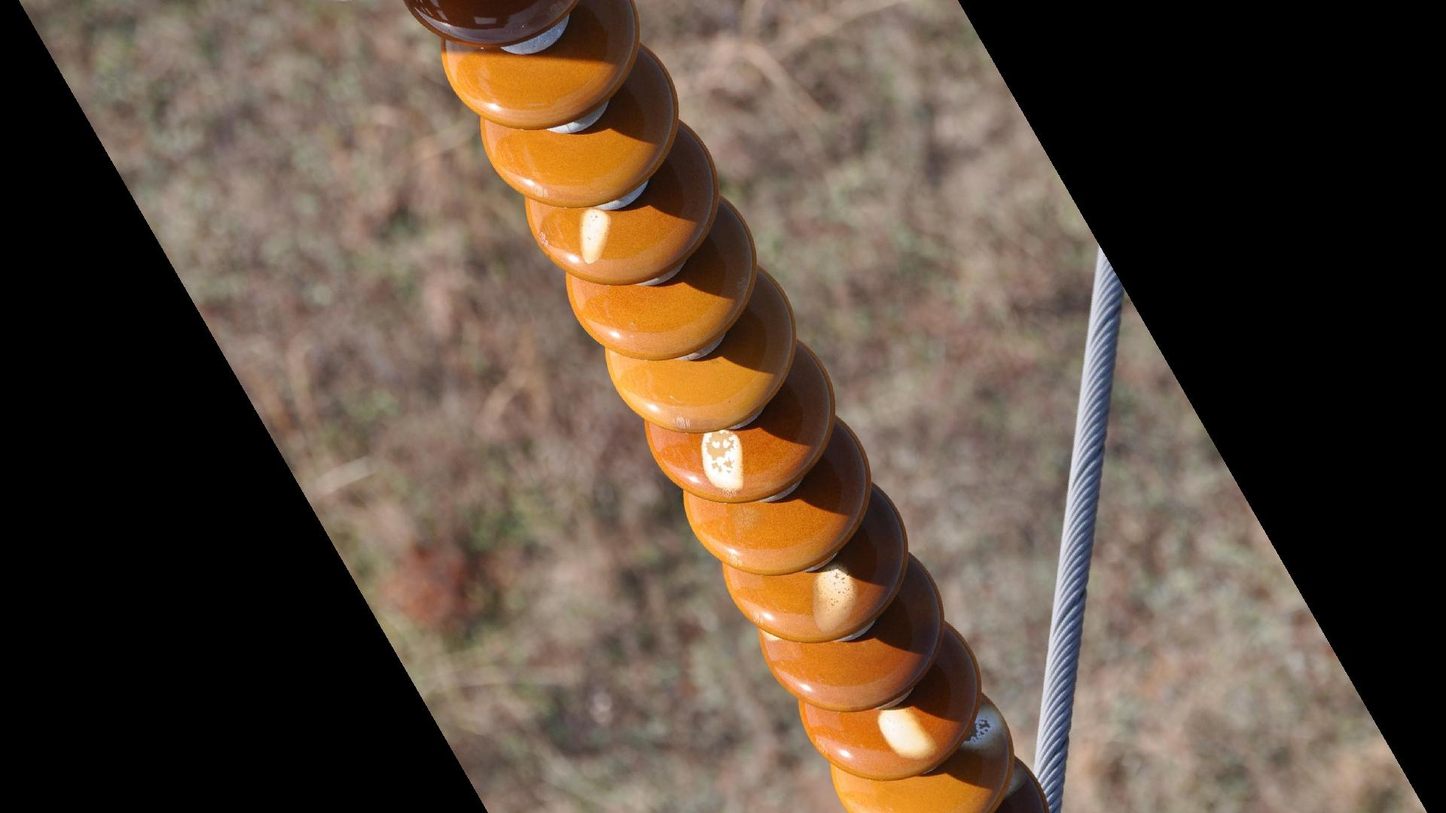insulator: (398, 1, 1056, 813)
insulator_flashover: (809, 559, 861, 637), (874, 703, 940, 761), (697, 425, 746, 496), (573, 203, 615, 265), (958, 702, 1009, 753)
